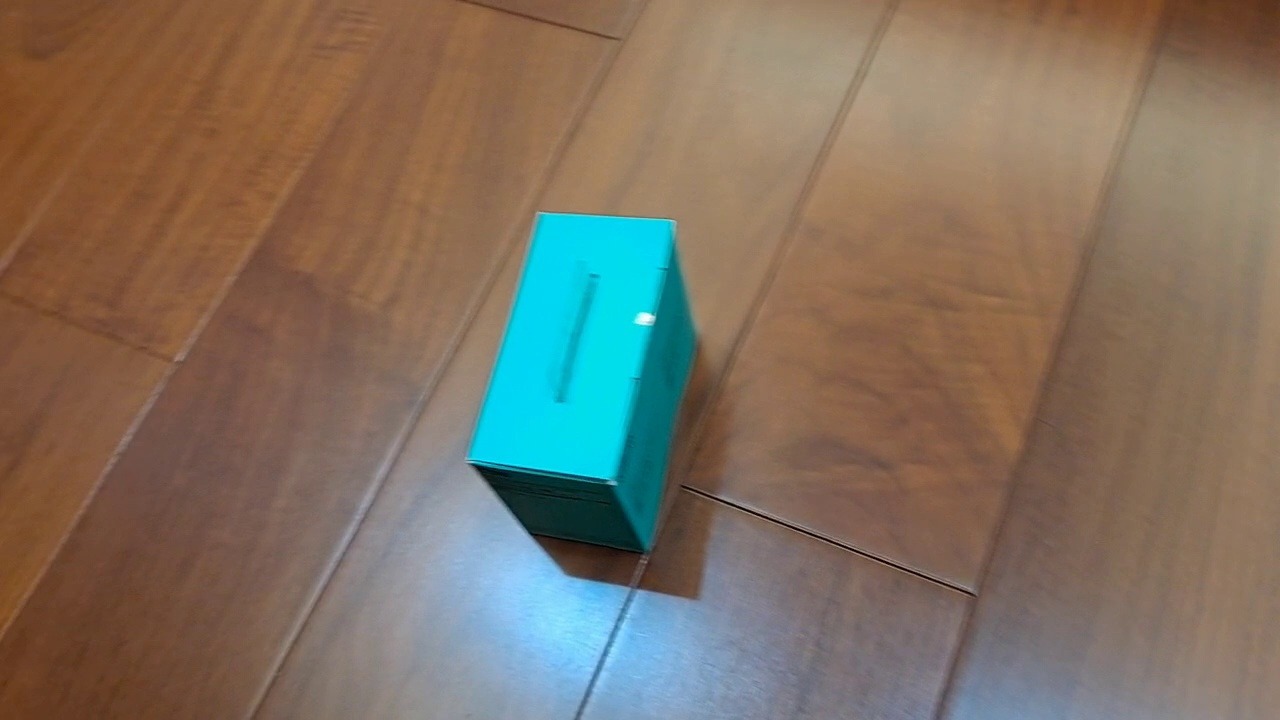webcam: (462, 207, 702, 557)
